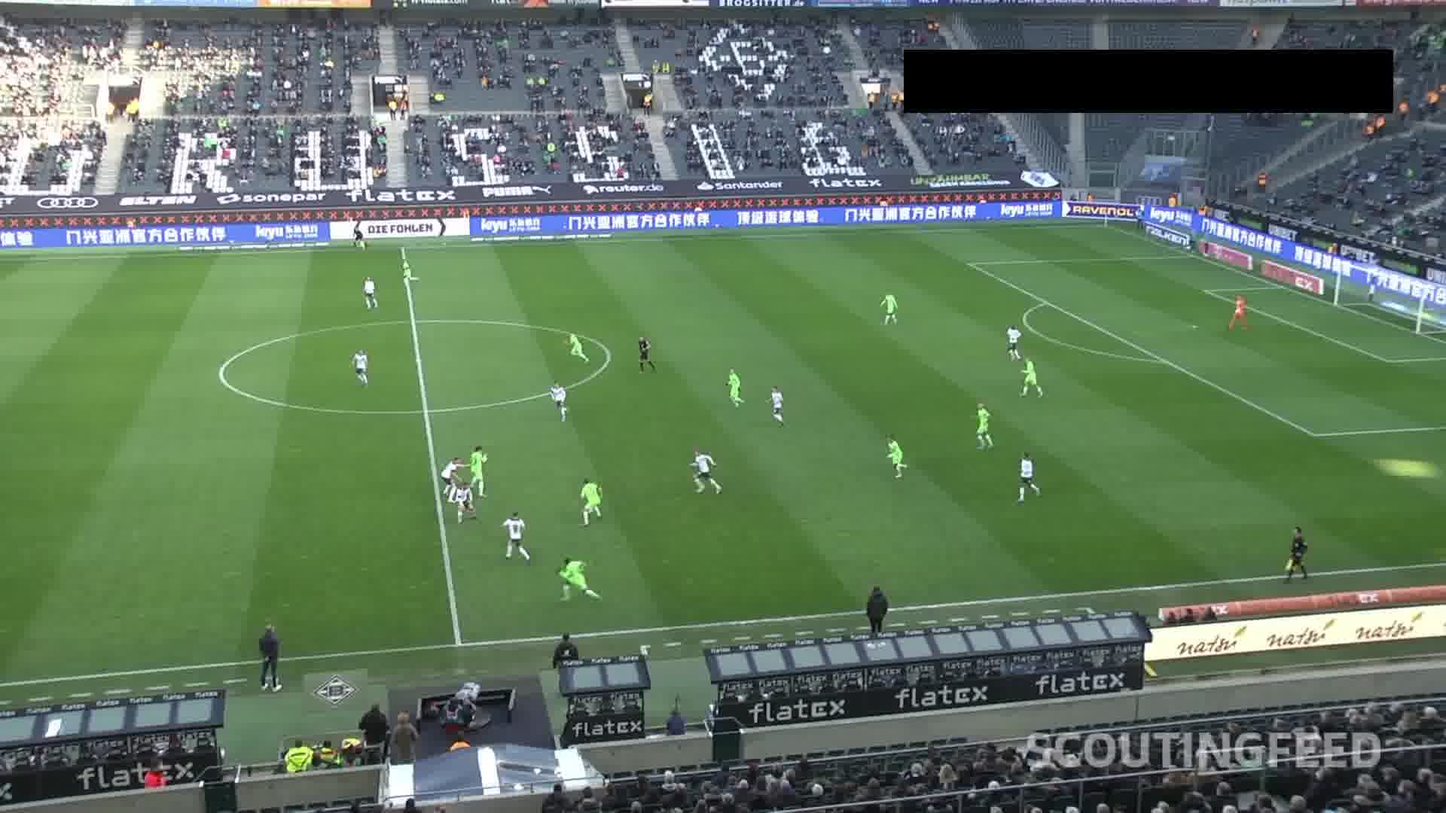ball: (579, 502, 599, 516)
coach_staff: (252, 621, 285, 690), (860, 577, 890, 647), (544, 630, 589, 675)
goalkeeper: (1230, 284, 1255, 335)
player: (679, 444, 737, 498), (554, 552, 604, 607), (1013, 448, 1043, 507), (872, 284, 908, 326), (579, 470, 606, 524), (498, 506, 526, 558), (717, 364, 749, 409), (468, 434, 492, 494), (1015, 350, 1046, 396), (431, 449, 458, 498), (560, 317, 586, 364), (881, 434, 908, 479), (968, 399, 995, 444), (547, 376, 572, 424), (355, 274, 385, 307), (344, 343, 370, 381), (767, 380, 788, 424), (1004, 315, 1023, 363), (400, 256, 420, 286)
referee: (1282, 514, 1309, 583), (452, 481, 482, 526), (631, 331, 655, 376), (348, 226, 373, 255)
